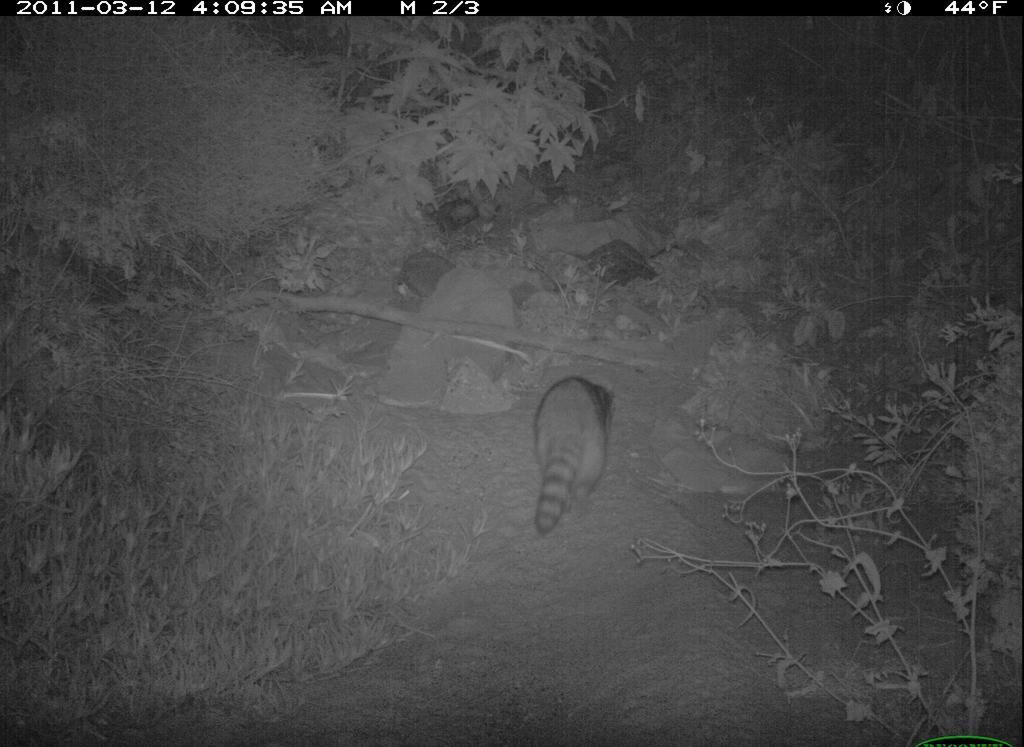raccoon: (527, 368, 621, 543)
